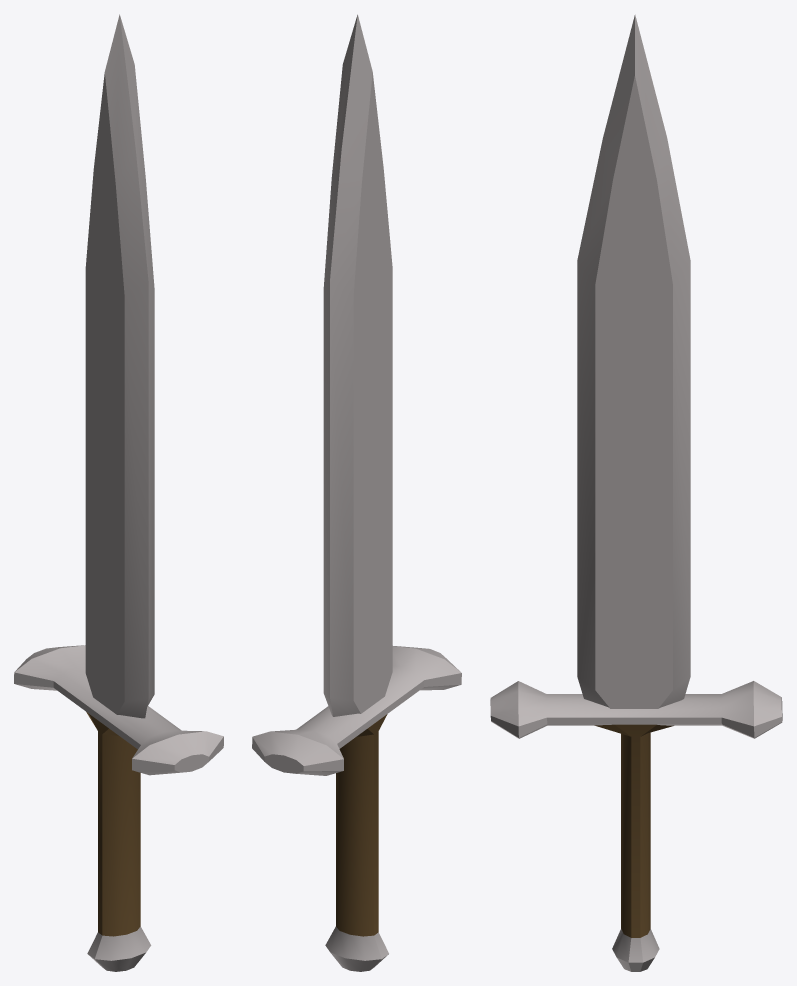
Rendered from sword.fbx.
The picture shows the model from 3 angles, left to right: view 1: azimuth 30°, elevation 25°; view 2: azimuth 150°, elevation 25°; view 3: azimuth 270°, elevation 25°; orthographic projection.
Parts seen in each view (by area): view 1: sword; view 2: sword; view 3: sword.
Part boxes in pixels (x1,y1,x2,y2): sword: (14, 14, 223, 971); sword: (252, 14, 461, 971); sword: (490, 14, 782, 971).
Bounding box in the file's own units: 32.55 × 322 × 89.66.
